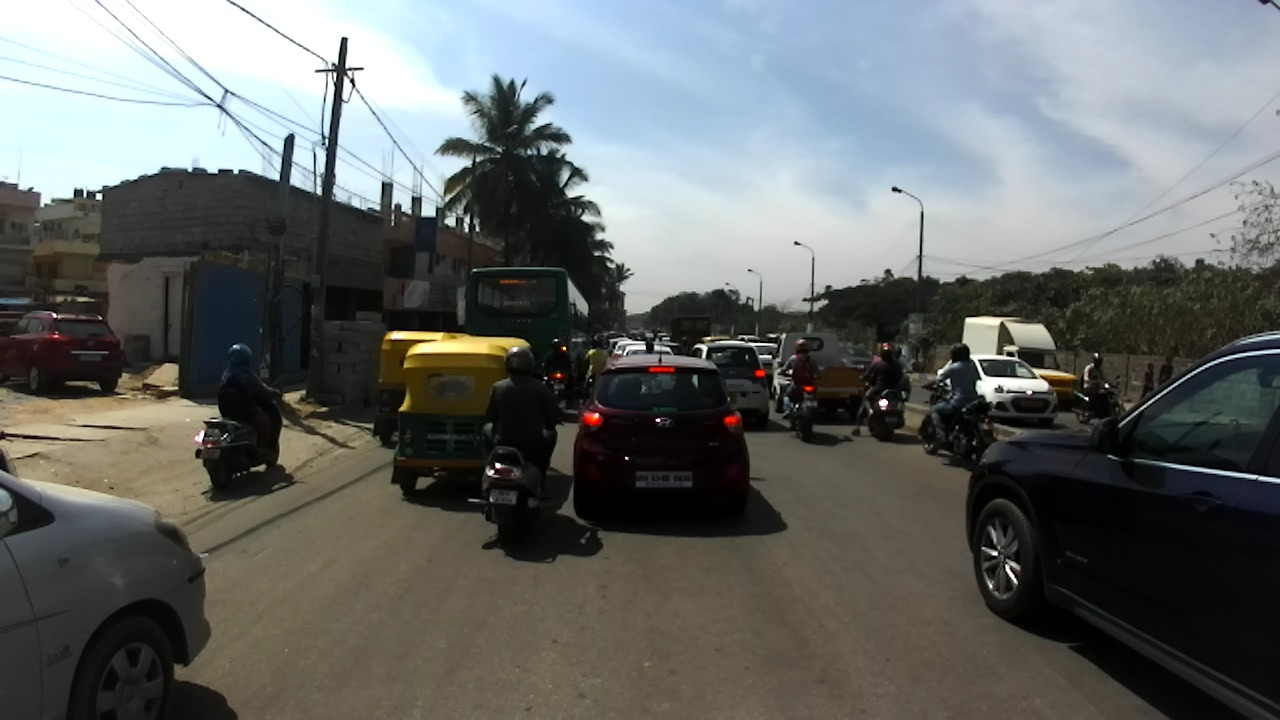autorickshaw: (391, 336, 533, 496), (372, 330, 474, 446), (701, 336, 731, 343), (657, 333, 668, 342)
bus: (465, 267, 592, 386)
car: (968, 331, 1280, 719), (1, 470, 211, 720), (572, 349, 750, 520), (1, 310, 125, 395), (935, 355, 1058, 428), (688, 340, 770, 427), (749, 341, 782, 396), (837, 343, 873, 371), (624, 345, 674, 360), (610, 339, 646, 359), (658, 341, 685, 357), (607, 337, 628, 355)
motorcycle: (467, 417, 564, 543), (194, 388, 286, 492), (919, 380, 994, 471), (858, 365, 906, 440), (782, 370, 828, 442), (1072, 375, 1127, 425), (543, 367, 573, 411), (1, 423, 21, 476), (893, 370, 910, 403), (582, 379, 594, 404)
person: (1157, 354, 1174, 387), (1141, 362, 1153, 402)
rider: (477, 347, 561, 492), (217, 341, 282, 461), (932, 343, 980, 451), (852, 343, 891, 435), (783, 340, 826, 419), (864, 347, 902, 421), (1083, 352, 1108, 418), (544, 338, 573, 394), (585, 331, 609, 384), (893, 345, 913, 374), (642, 339, 656, 354), (656, 336, 663, 341)
truck: (962, 316, 1079, 408), (770, 332, 865, 413), (670, 315, 709, 355)
vehicle fallback: (764, 331, 780, 344), (738, 334, 760, 343), (606, 328, 622, 338), (649, 326, 663, 336), (644, 332, 657, 342), (633, 334, 645, 341), (629, 329, 638, 338), (660, 337, 671, 342)
